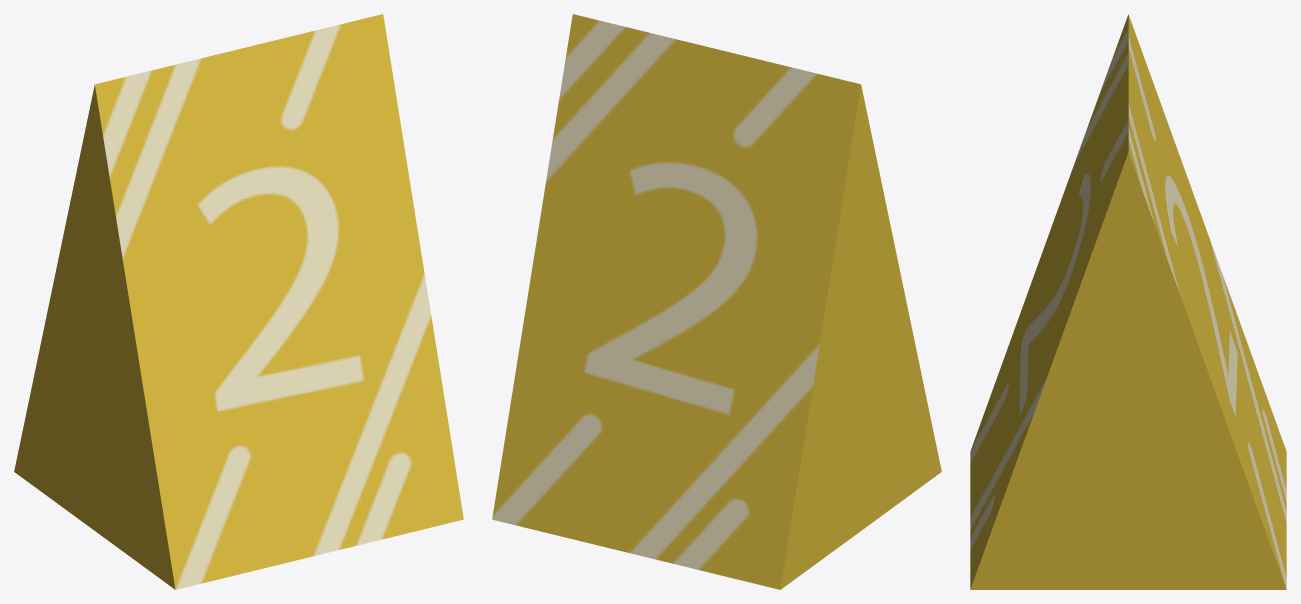
File: ClueMarker2.fbx
The picture shows the model from 3 angles, left to right: view 1: azimuth 30°, elevation 25°; view 2: azimuth 150°, elevation 25°; view 3: azimuth 270°, elevation 25°; orthographic projection.
Visible parts, largest first — view 1: ClueMesh; view 2: ClueMesh; view 3: ClueMesh.
Boxes of the visible parts, left/top/right/bottom form: ClueMesh: left=14, top=14, right=463, bottom=589; ClueMesh: left=492, top=14, right=941, bottom=589; ClueMesh: left=970, top=14, right=1286, bottom=589.
Size of the model in its own units: 2.56 by 3.79 by 2.48.
Materials: 2 (2 with a texture image).
